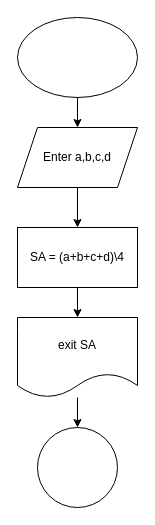
The diagram is 155 pixels wide and 525 high, and some of its shapes have lost their labels. The box of each missing label's shape, as (x1, y1, x2, y2) in pixels:
END: (36, 426, 118, 508)
Start: (16, 16, 138, 98)
